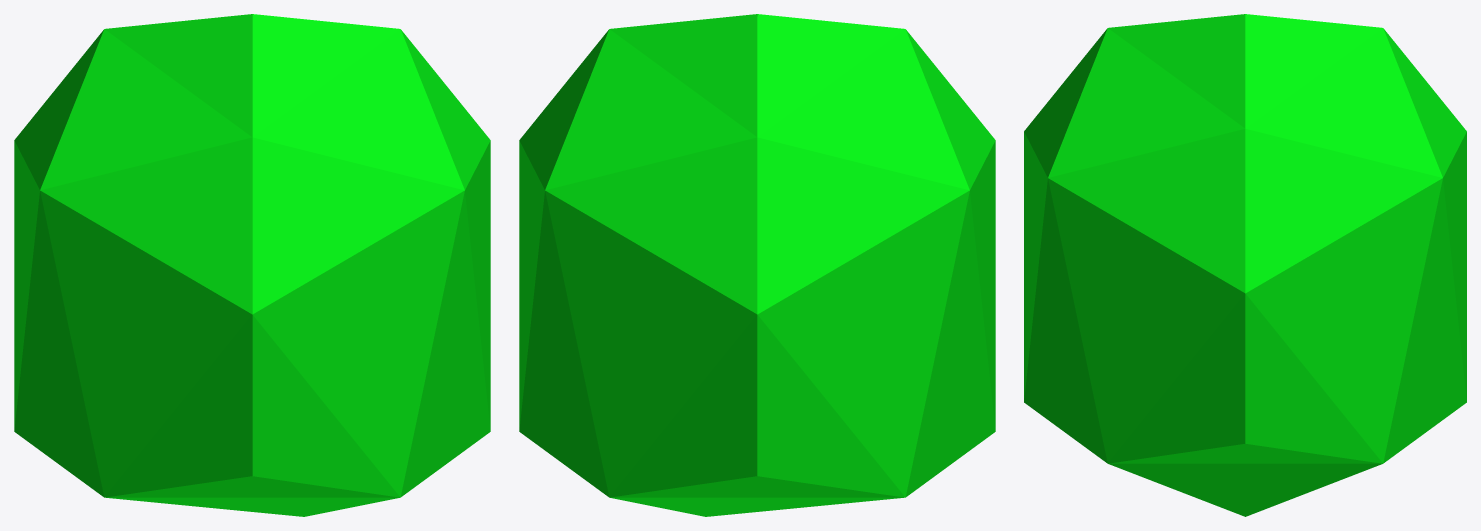
Rendered from Low Poly Trætop [].FBX.
3 views of the same model, side by side, from view 1: azimuth 30°, elevation 25°; view 2: azimuth 150°, elevation 25°; view 3: azimuth 270°, elevation 25° (orthographic). The views are drawn at different scales.
Visible parts, largest first — view 1: GeoSphere001; view 2: GeoSphere001; view 3: GeoSphere001.
Boxes of the visible parts, x1,y1,x2,y2 form: GeoSphere001: (14, 14, 490, 516); GeoSphere001: (519, 14, 995, 516); GeoSphere001: (1024, 14, 1466, 516).
Bounding box in the file's own units: 360 × 393 × 329.
